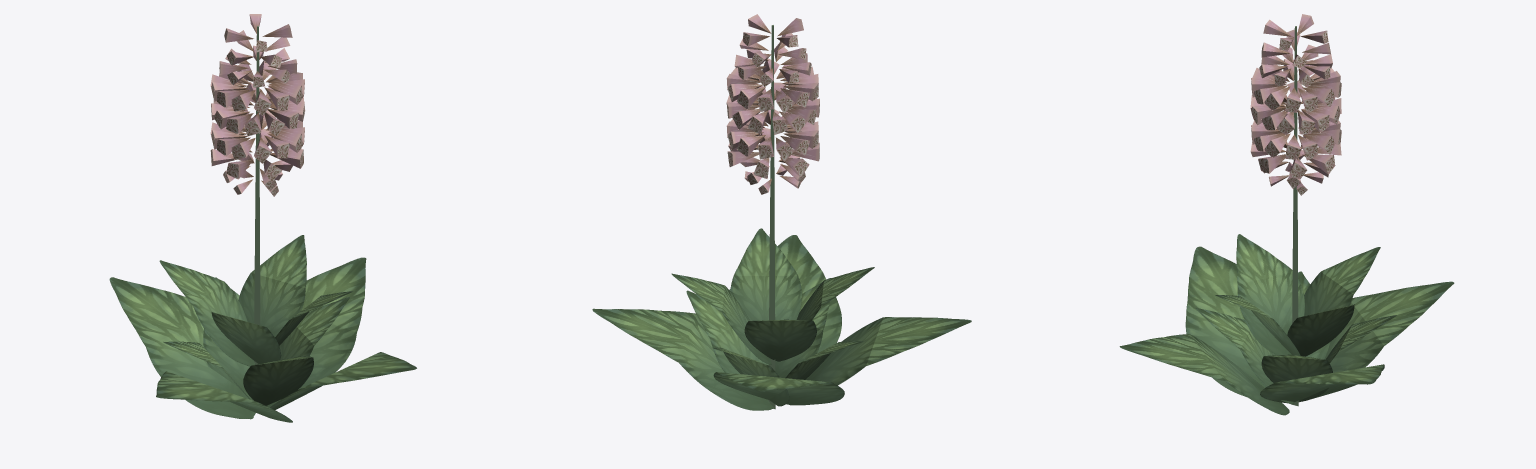
Rendered from FewFlowersSadLowPoly.fbx.
3 renders of one model, left to right at view 1: azimuth 30°, elevation 25°; view 2: azimuth 150°, elevation 25°; view 3: azimuth 270°, elevation 25°, orthographic.
Parts seen in each view (by area): view 1: LeafesCurve.011, LeafesCurve.010, LeafesCurve.009, Curve.027, Curve.023, Curve.022, Curve.028, Curve.026, Stem.002, Curve.032, Curve.029; view 2: LeafesCurve.011, LeafesCurve.010, LeafesCurve.009, Curve.027, Curve.023, Curve.022, Curve.026, Stem.002, Curve.028, Curve.032, Curve.029; view 3: LeafesCurve.011, LeafesCurve.010, LeafesCurve.009, Curve.027, Curve.022, Curve.023, Curve.026, Curve.028, Stem.002, Curve.032, Curve.029.
Boxes of the visible parts, x1,y1,x2,y2 form: LeafesCurve.011: (109, 257, 416, 422); LeafesCurve.010: (159, 235, 352, 366); LeafesCurve.009: (163, 277, 349, 405); Curve.027: (210, 60, 304, 115); Curve.023: (210, 109, 304, 163); Curve.022: (211, 82, 305, 136); Curve.028: (210, 128, 303, 181); Curve.026: (219, 45, 297, 87); Stem.002: (253, 26, 260, 400); Curve.032: (224, 14, 292, 52); Curve.029: (226, 30, 290, 67); LeafesCurve.011: (592, 235, 971, 410); LeafesCurve.010: (671, 228, 874, 364); LeafesCurve.009: (686, 278, 862, 406); Curve.027: (726, 58, 818, 113); Curve.023: (726, 109, 818, 161); Curve.022: (726, 82, 819, 134); Curve.026: (734, 43, 811, 86); Stem.002: (768, 25, 775, 409); Curve.028: (727, 127, 819, 178); Curve.032: (742, 14, 803, 47); Curve.029: (739, 33, 806, 67); LeafesCurve.011: (1119, 246, 1454, 415); LeafesCurve.010: (1215, 234, 1380, 356); LeafesCurve.009: (1195, 271, 1396, 404); Curve.027: (1251, 59, 1341, 113); Curve.022: (1250, 80, 1341, 134); Curve.023: (1251, 106, 1341, 160); Curve.026: (1259, 44, 1332, 87); Curve.028: (1250, 134, 1341, 179); Stem.002: (1291, 26, 1298, 406); Curve.032: (1263, 14, 1328, 50); Curve.029: (1261, 29, 1330, 68).
Bounding box in the file's own units: 116 × 100 × 113.
